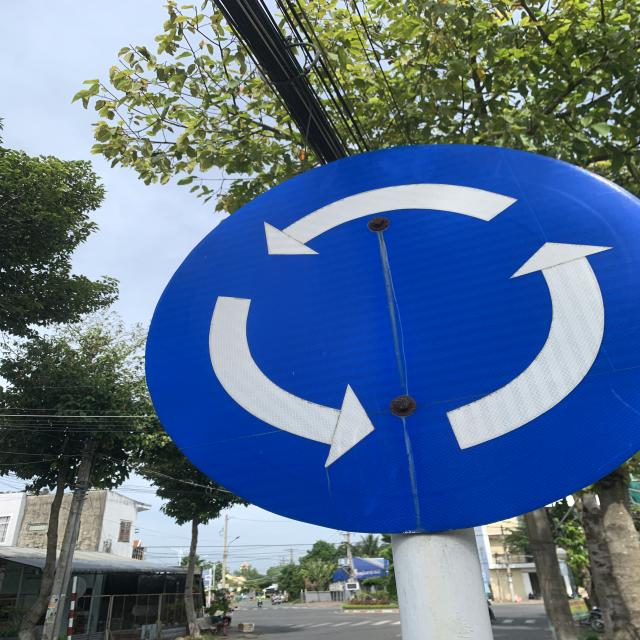Xe_Bus: (144, 143, 638, 526)
